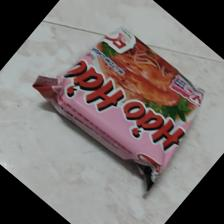Haohao: (31, 25, 204, 193)
